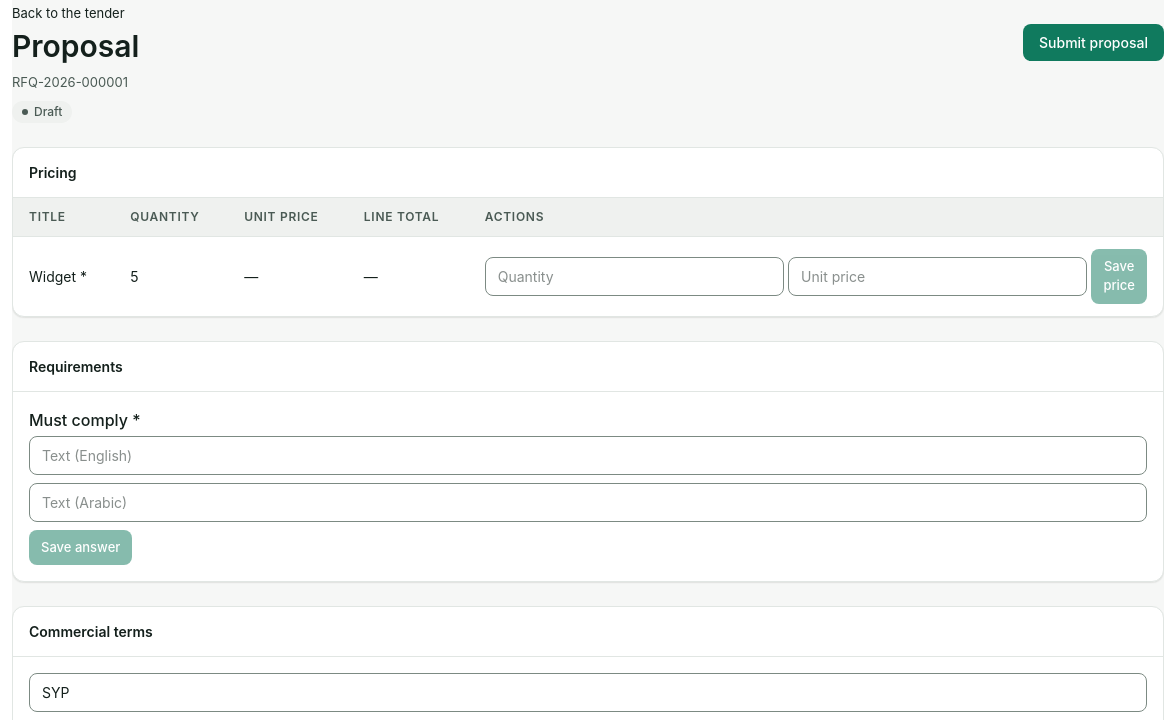
SupplierProposalPage › the Save price button is disabled until a price is entered
Check: the button "Save price" is disabled, box [1091,248,1147,304]
Type "25" into the number field named "Unit price - Widget". click: (938, 276)
box: [788,256,1087,296]
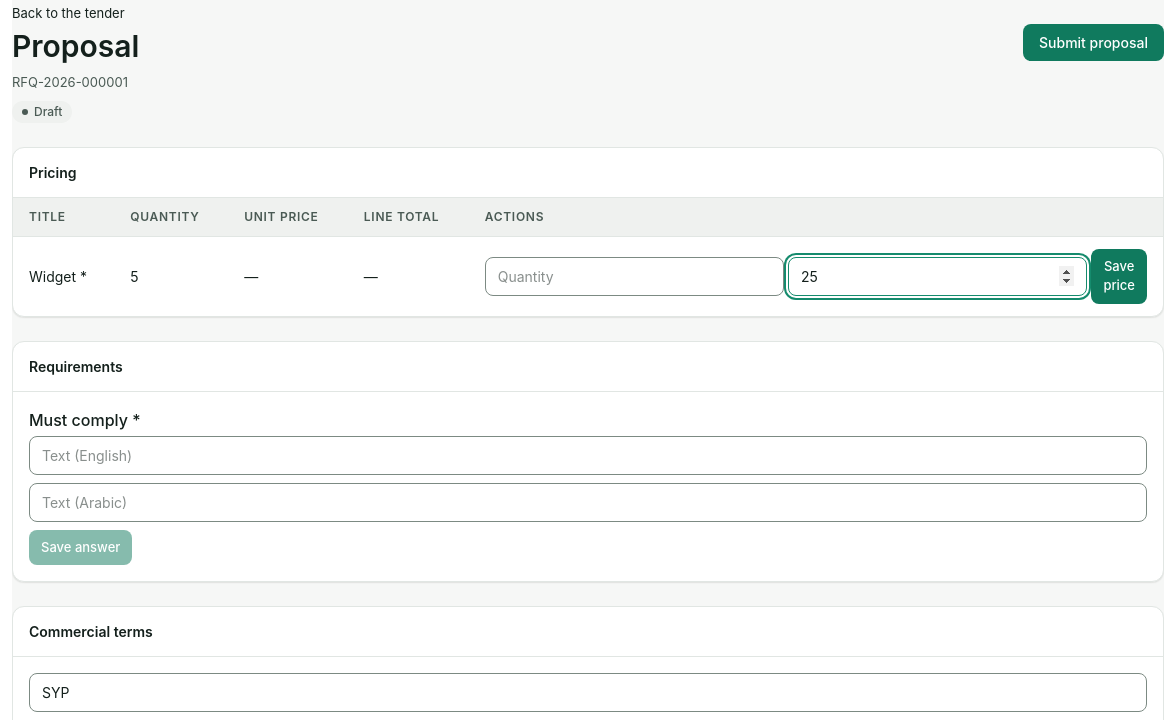
Check: the button "Save price" is enabled, box [1091,248,1147,304]
